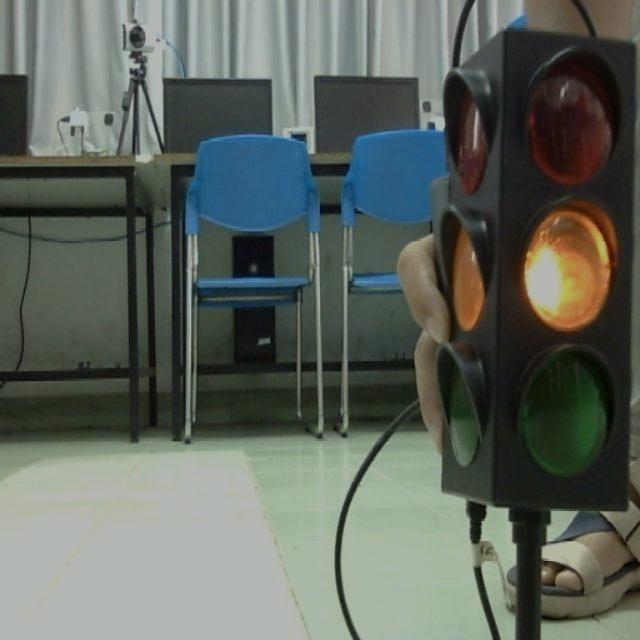Yellow: (434, 30, 630, 513)
